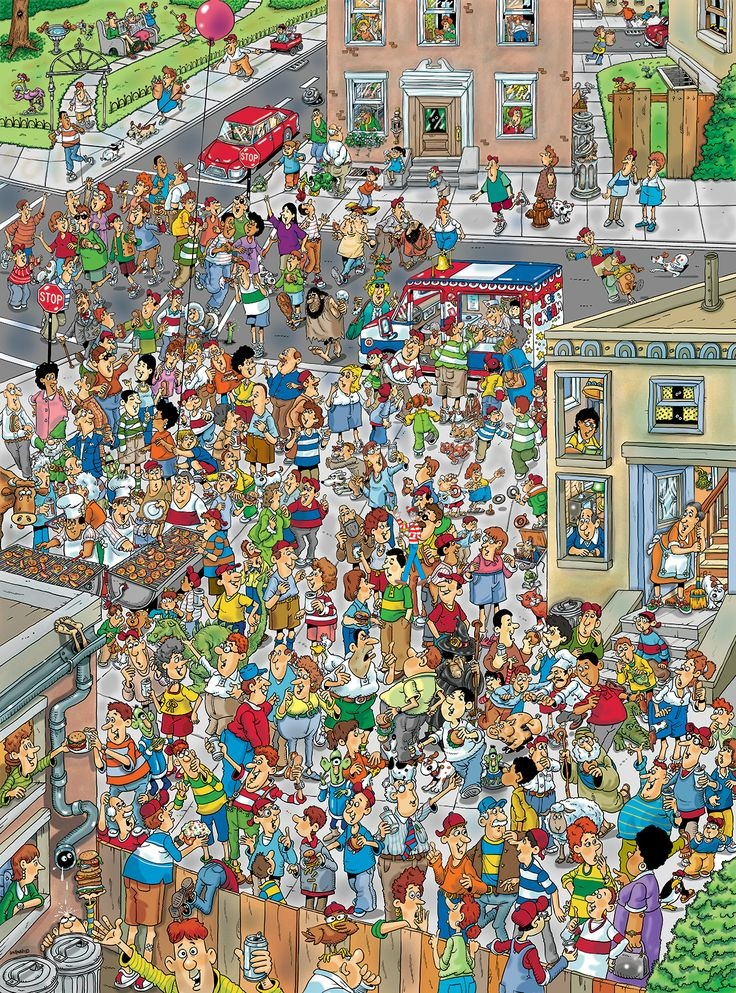waldo: (393, 506, 428, 586)
